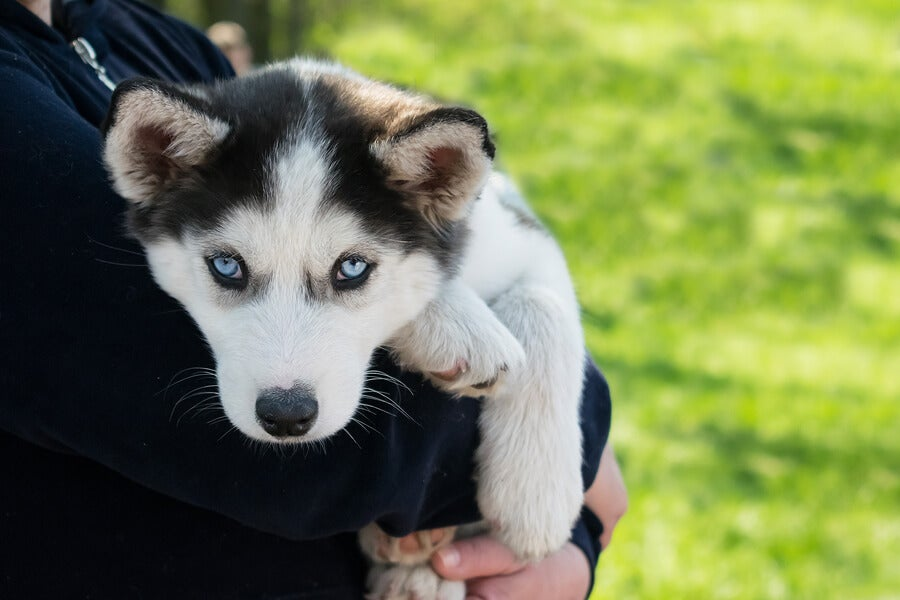husky: (88, 50, 636, 548)
